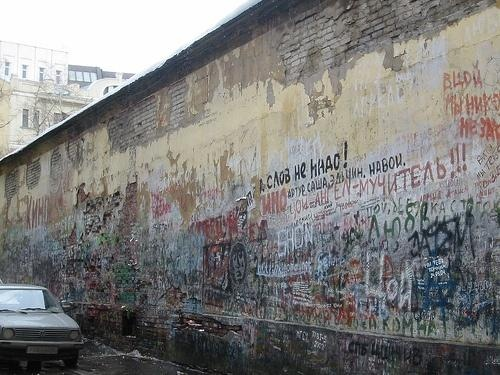car: (1, 284, 84, 375)
